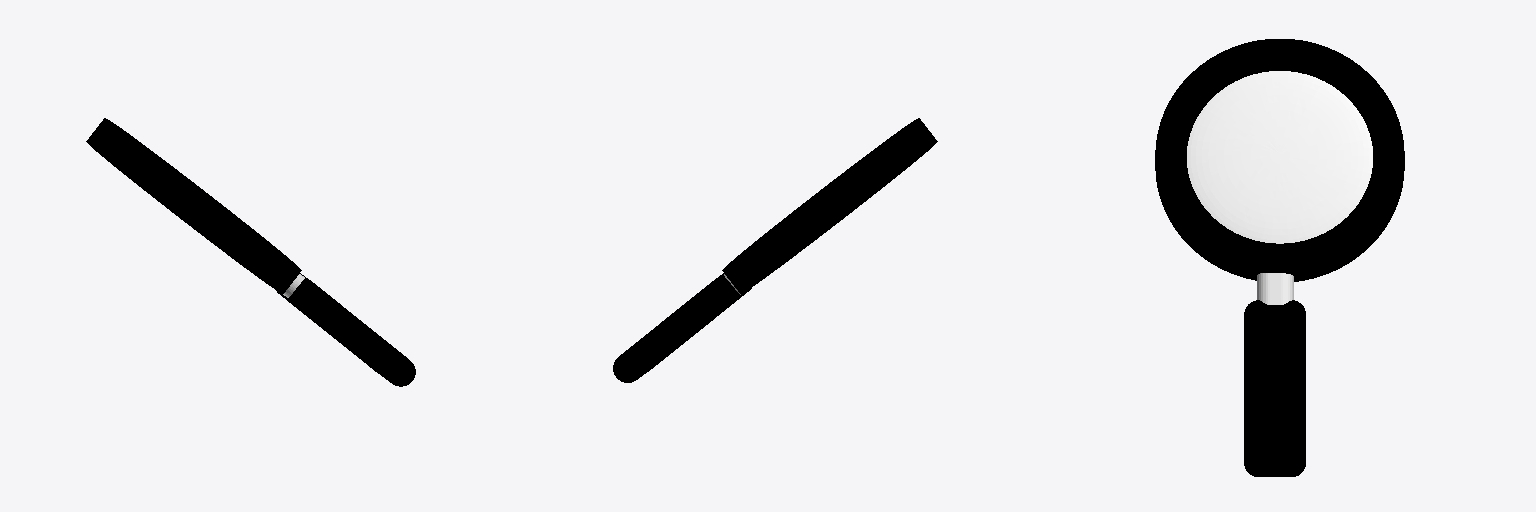
File: MagnifyingGlass.obj
The picture shows the model from 3 angles: view 1: azimuth 30°, elevation 25°; view 2: azimuth 150°, elevation 25°; view 3: azimuth 270°, elevation 25°; orthographic projection.
Visible parts, largest first — view 1: 003_Tube, 000_Box_1; view 2: 003_Tube, 000_Box_1; view 3: 002_Sphere, 003_Tube, 000_Box_1, 001_Box.
Part boxes in pixels (x1,y1,x2,y2): 003_Tube: (86, 118, 301, 293); 000_Box_1: (276, 273, 415, 386); 003_Tube: (722, 118, 937, 293); 000_Box_1: (613, 273, 751, 382); 002_Sphere: (1187, 71, 1372, 243); 003_Tube: (1155, 39, 1404, 281); 000_Box_1: (1244, 300, 1305, 476); 001_Box: (1257, 273, 1293, 304).
Size of the model in its own units: 11.06 by 11.07 by 8.11.